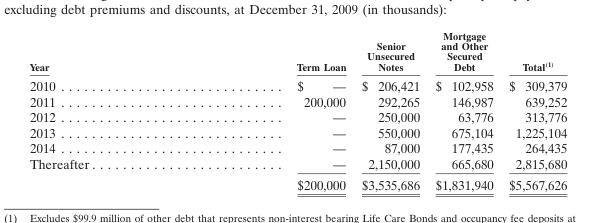table: (28, 28, 566, 191)
table column: (28, 28, 195, 191), (195, 28, 353, 191), (426, 28, 500, 191), (353, 28, 426, 191), (500, 28, 566, 191)
table column header: (28, 28, 566, 74)
table row: (28, 28, 566, 74), (28, 74, 566, 93), (28, 155, 566, 173), (28, 173, 566, 191), (28, 93, 566, 109), (28, 124, 566, 140), (28, 109, 566, 124), (28, 140, 566, 155)
